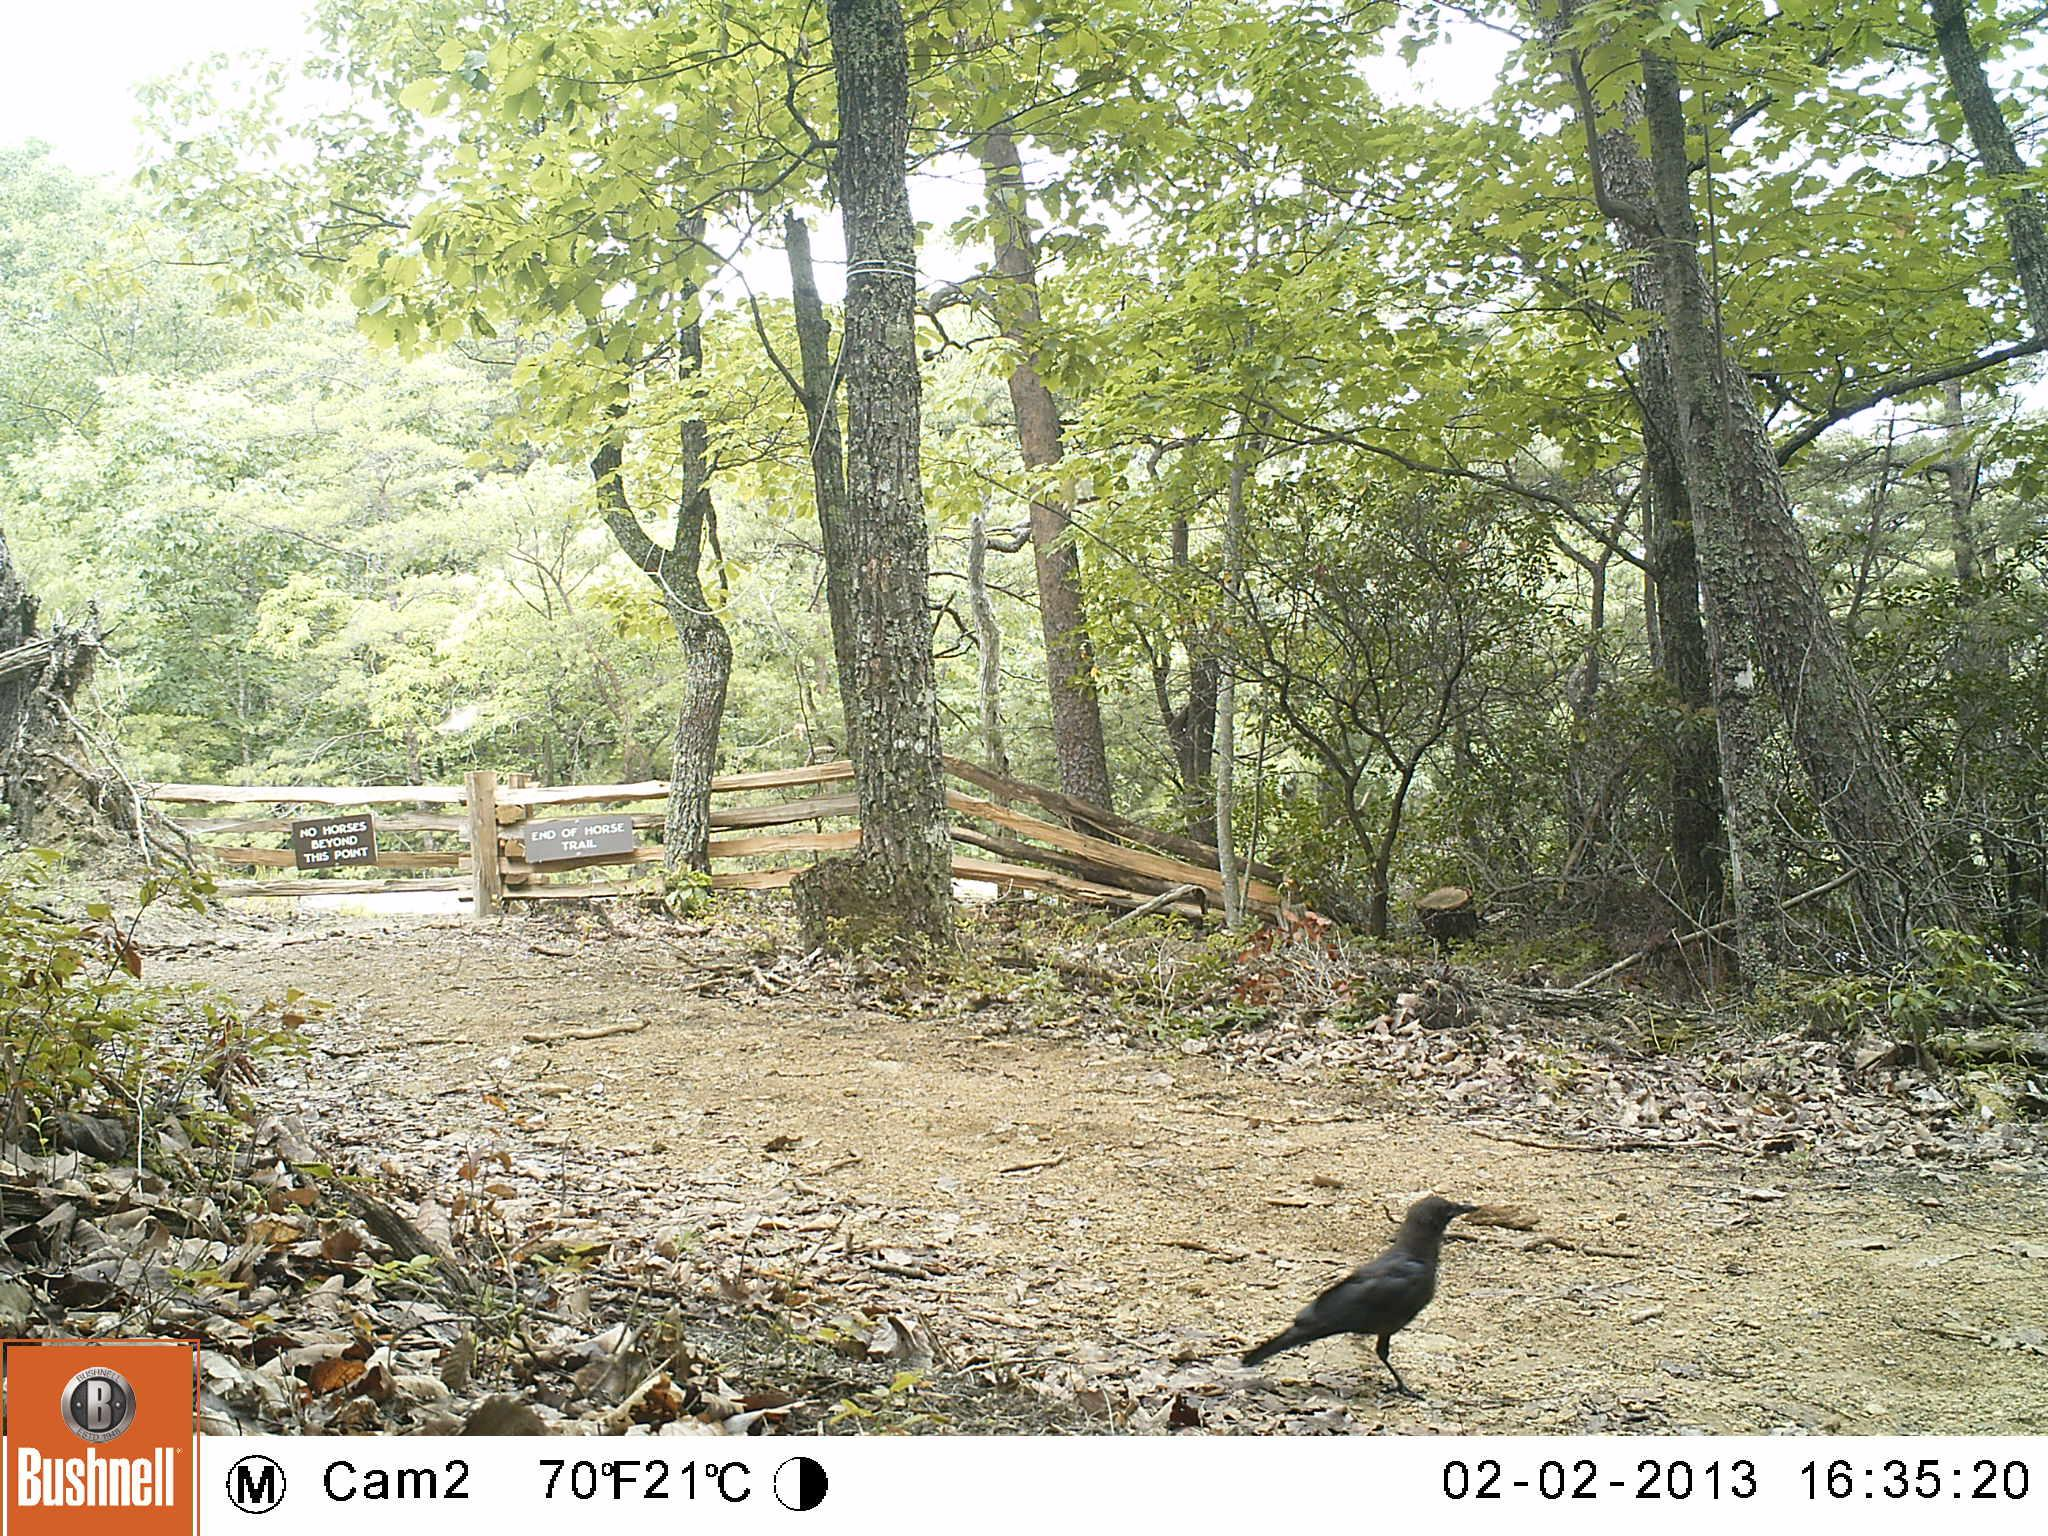Animal: (1251, 1192, 1471, 1391)
